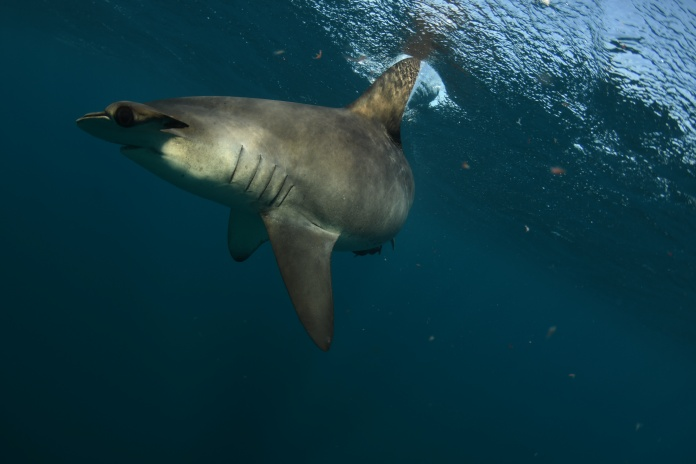Hammer: (38, 19, 464, 361)
